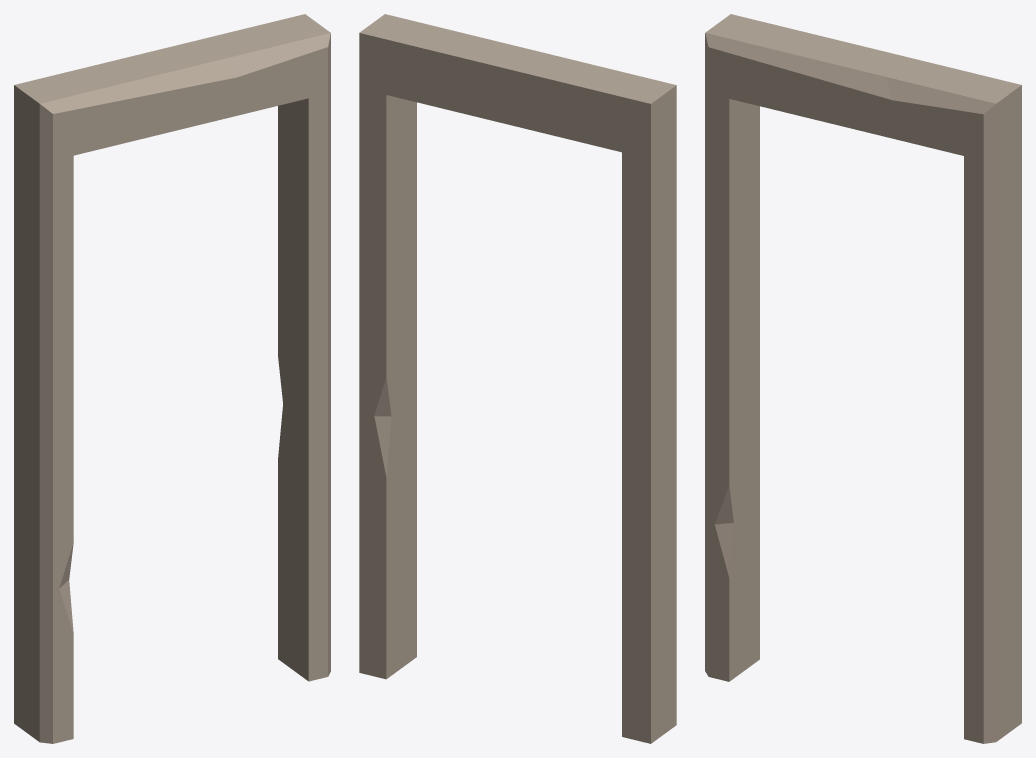
Rendered from SM_Bld_Shop_Door_02.glb.
The picture shows the model from 3 angles, left to right: view 1: azimuth 30°, elevation 25°; view 2: azimuth 150°, elevation 25°; view 3: azimuth 330°, elevation 25°; orthographic projection.
Parts seen in each view (by area): view 1: SM_Bld_Shop_Door_02; view 2: SM_Bld_Shop_Door_02; view 3: SM_Bld_Shop_Door_02.
Boxes of the visible parts, left/top/right/bottom form: SM_Bld_Shop_Door_02: left=14, top=14, right=330, bottom=743; SM_Bld_Shop_Door_02: left=359, top=14, right=676, bottom=743; SM_Bld_Shop_Door_02: left=705, top=14, right=1021, bottom=743.
Size of the model in its own units: 1.27 by 2.66 by 0.2314.
Materials: 1 (1 with a texture image).
